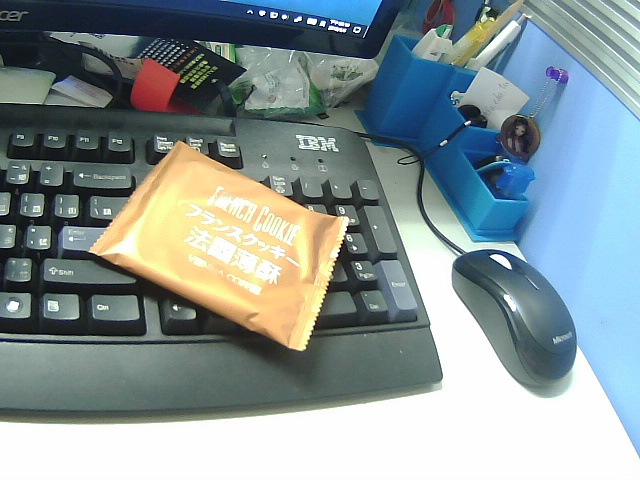frenchcookie: (68, 140, 365, 351)
